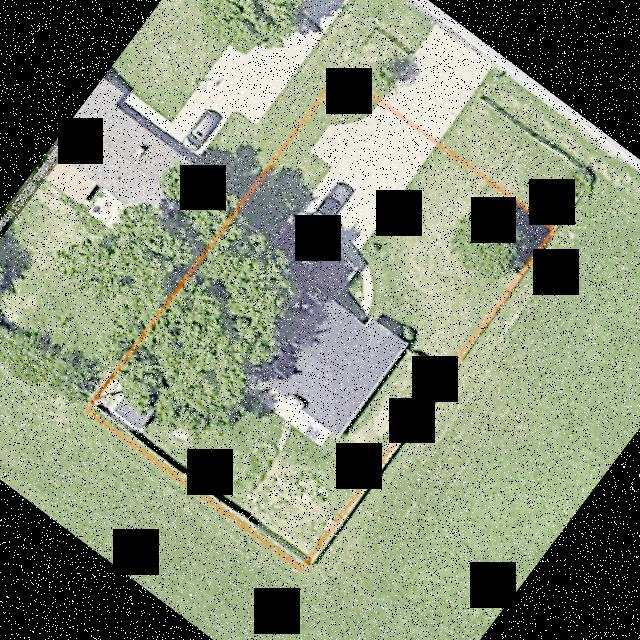Driveway: (267, 102, 435, 326)
Extra Driveway: (381, 23, 493, 141)
Extra Lawn: (437, 65, 611, 228), (340, 0, 435, 98)
House: (268, 301, 407, 436)
Other: (256, 386, 330, 446), (114, 389, 154, 428), (294, 476, 327, 504)
Sidewalk: (275, 423, 290, 450)
